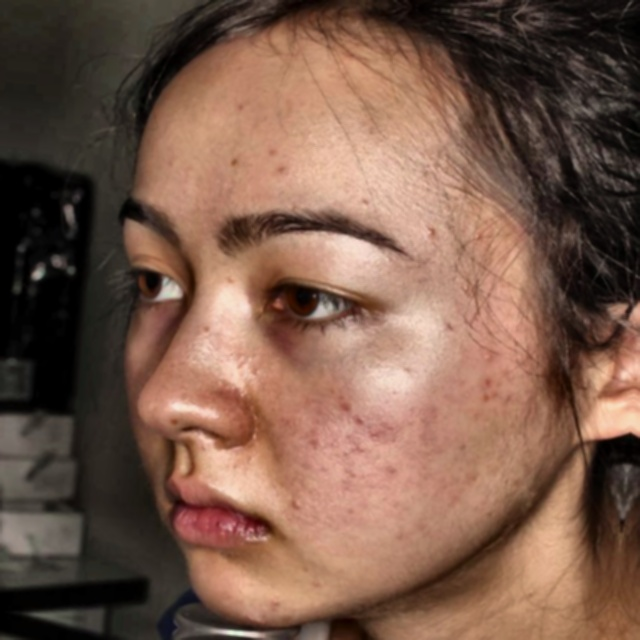comedone: (465, 372, 504, 409), (476, 342, 506, 366)
